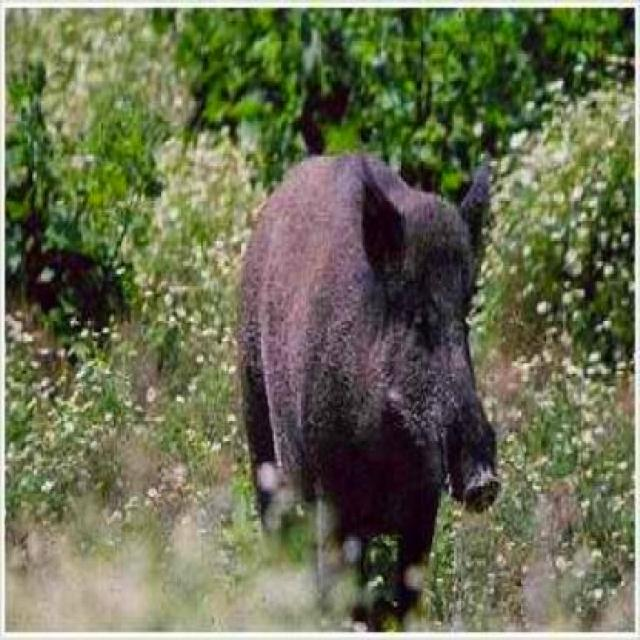Boar: (229, 107, 561, 640)
